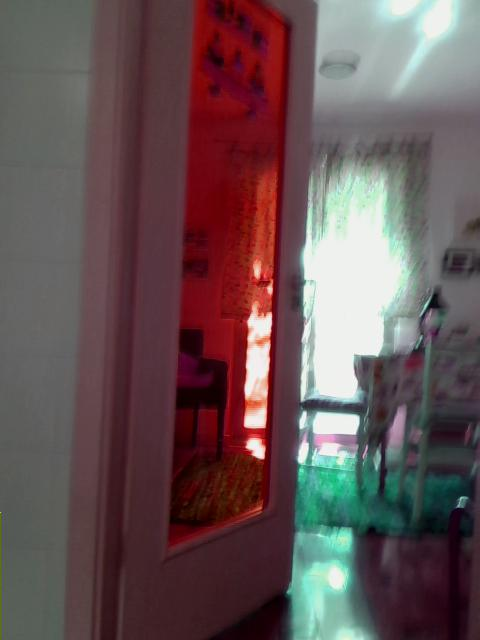semi_door: (63, 3, 479, 639)
